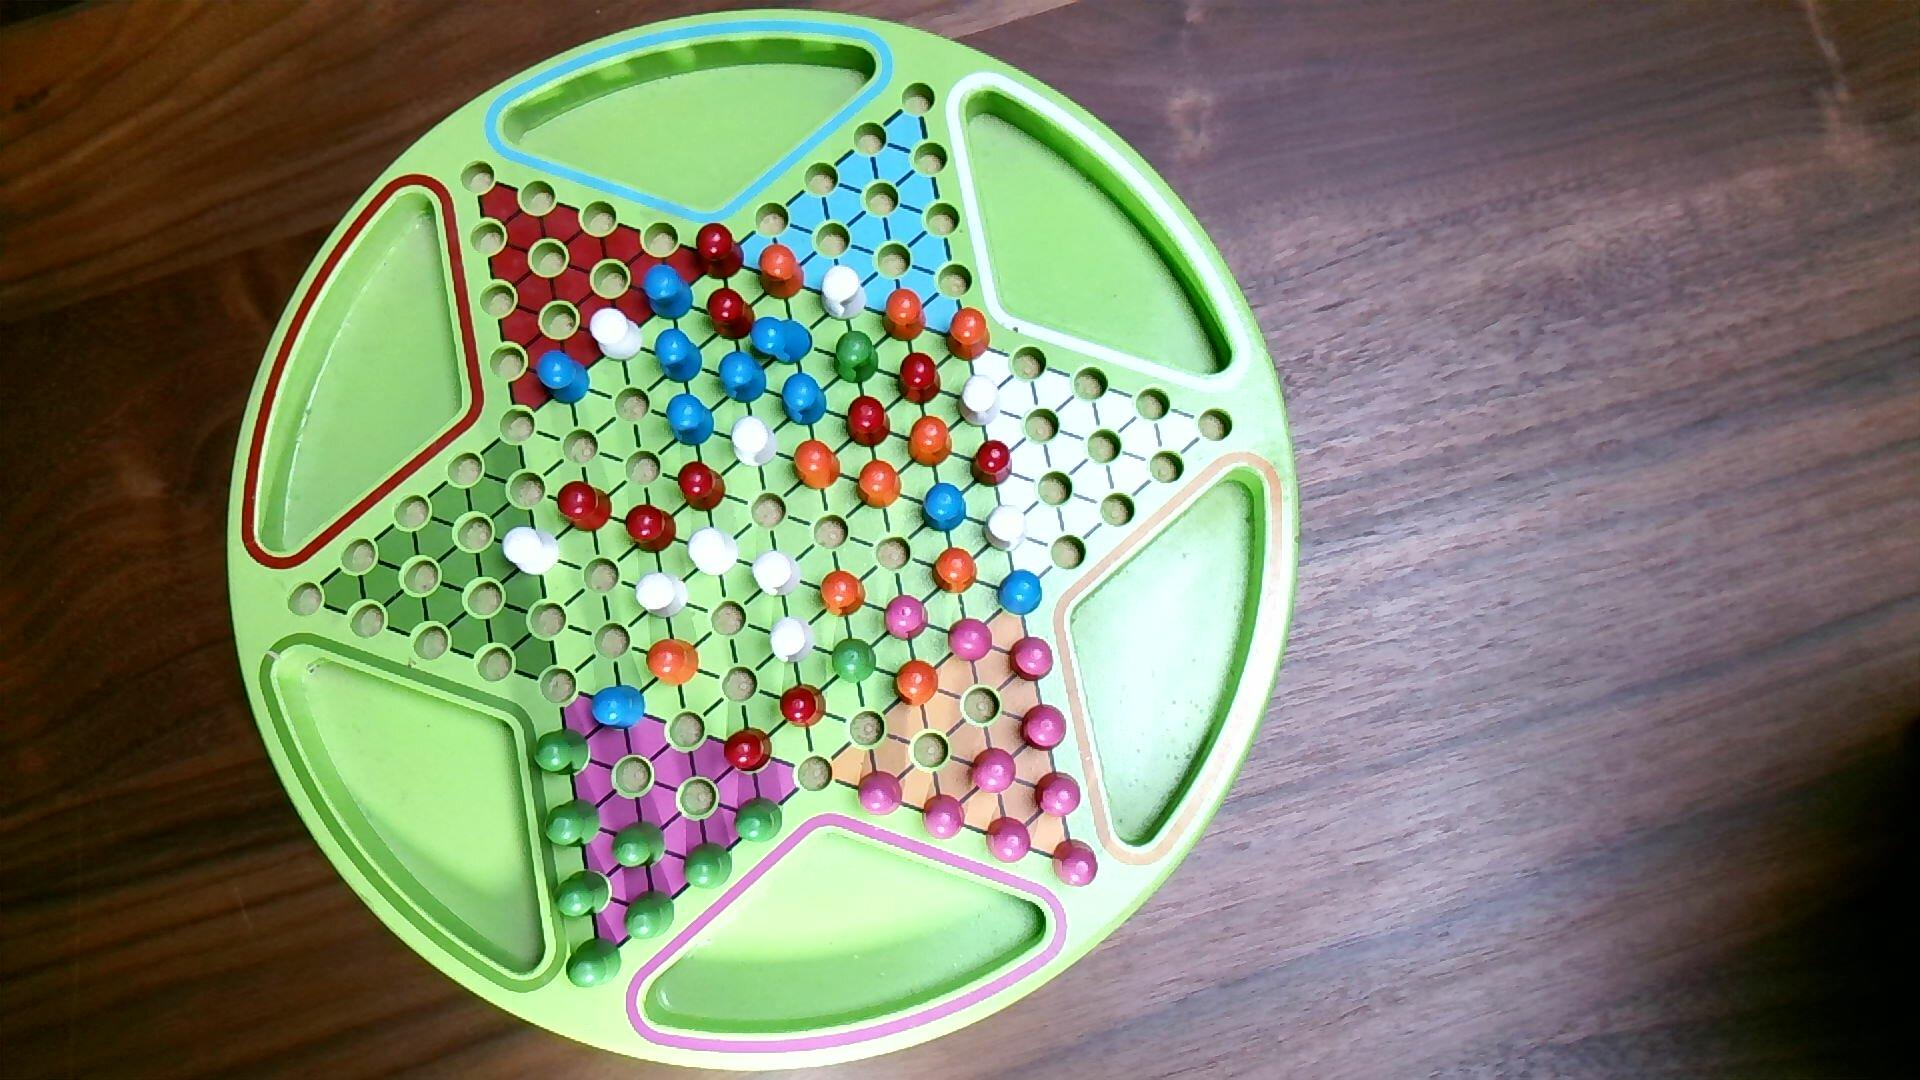B: (750, 316, 815, 368), (535, 348, 591, 407), (641, 262, 695, 323), (654, 328, 704, 386), (717, 349, 769, 405), (666, 393, 716, 448), (781, 372, 829, 429), (589, 684, 647, 732), (920, 483, 969, 535), (996, 568, 1044, 618)
G: (611, 819, 669, 873), (545, 796, 603, 851), (554, 869, 615, 920), (566, 938, 622, 992), (533, 727, 592, 778), (622, 887, 676, 942), (833, 328, 880, 386), (683, 841, 735, 891), (733, 796, 785, 847), (831, 637, 878, 687)
O: (758, 243, 807, 303), (645, 638, 702, 688), (945, 306, 992, 364), (882, 287, 928, 345), (793, 439, 843, 492), (856, 458, 905, 512), (907, 414, 955, 469), (893, 657, 942, 709), (819, 568, 868, 618), (931, 546, 980, 596)
R: (556, 480, 615, 535), (696, 222, 746, 282), (624, 502, 678, 556), (705, 286, 757, 343), (676, 460, 728, 514), (895, 352, 943, 407), (723, 725, 774, 775), (845, 396, 893, 450), (971, 438, 1014, 491), (781, 683, 828, 729)
R2: (1052, 837, 1101, 889), (1019, 703, 1068, 754), (984, 816, 1033, 866), (1033, 770, 1083, 819), (856, 769, 905, 818), (1007, 636, 1056, 684), (971, 746, 1018, 796), (884, 593, 931, 644), (947, 617, 996, 665), (920, 794, 967, 843)
W: (589, 307, 645, 364), (502, 526, 563, 578), (820, 264, 868, 324), (687, 526, 741, 579), (731, 415, 781, 469), (636, 571, 691, 620), (752, 549, 804, 599), (769, 615, 818, 666), (957, 375, 1004, 429), (982, 502, 1029, 555)
